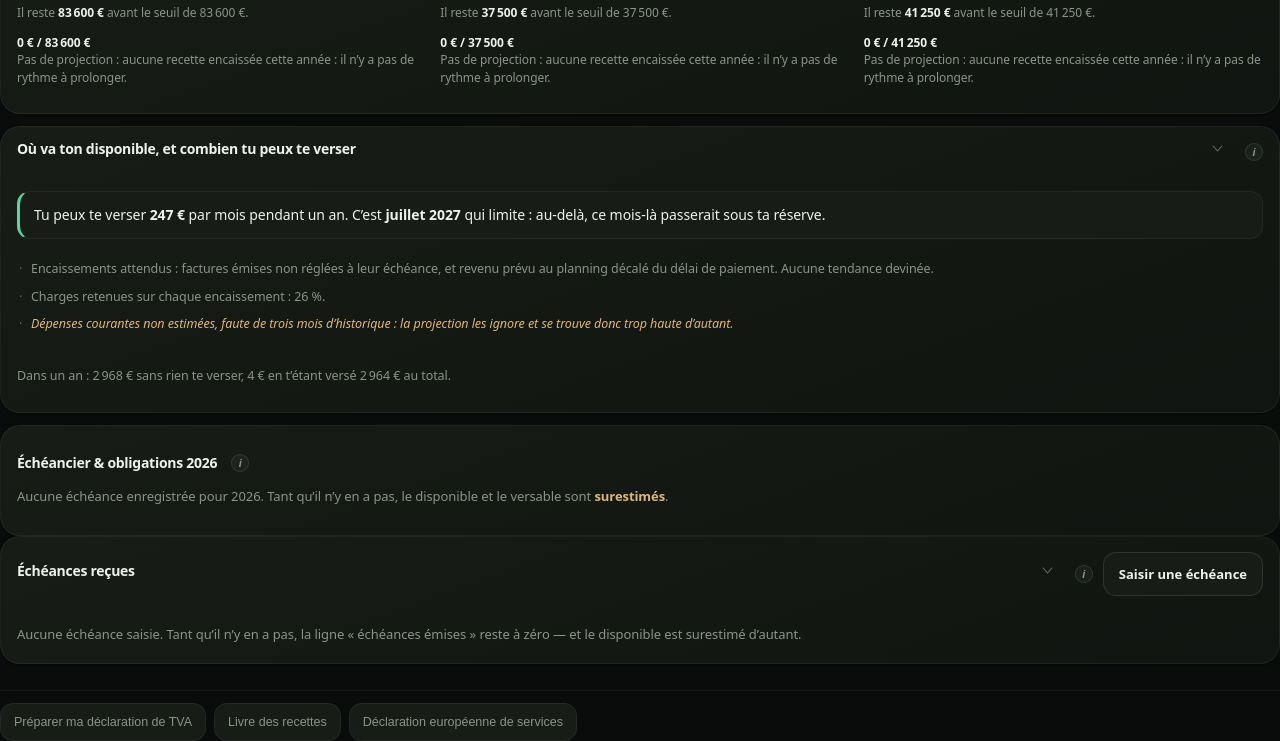
Test: prestations à déclarer › bloque une ligne dont le numéro de TVA manque, et dit pourquoi
(page scrolled)
Click the button "Déclaration européenne de services" at (463, 722), box [349, 703, 577, 740]
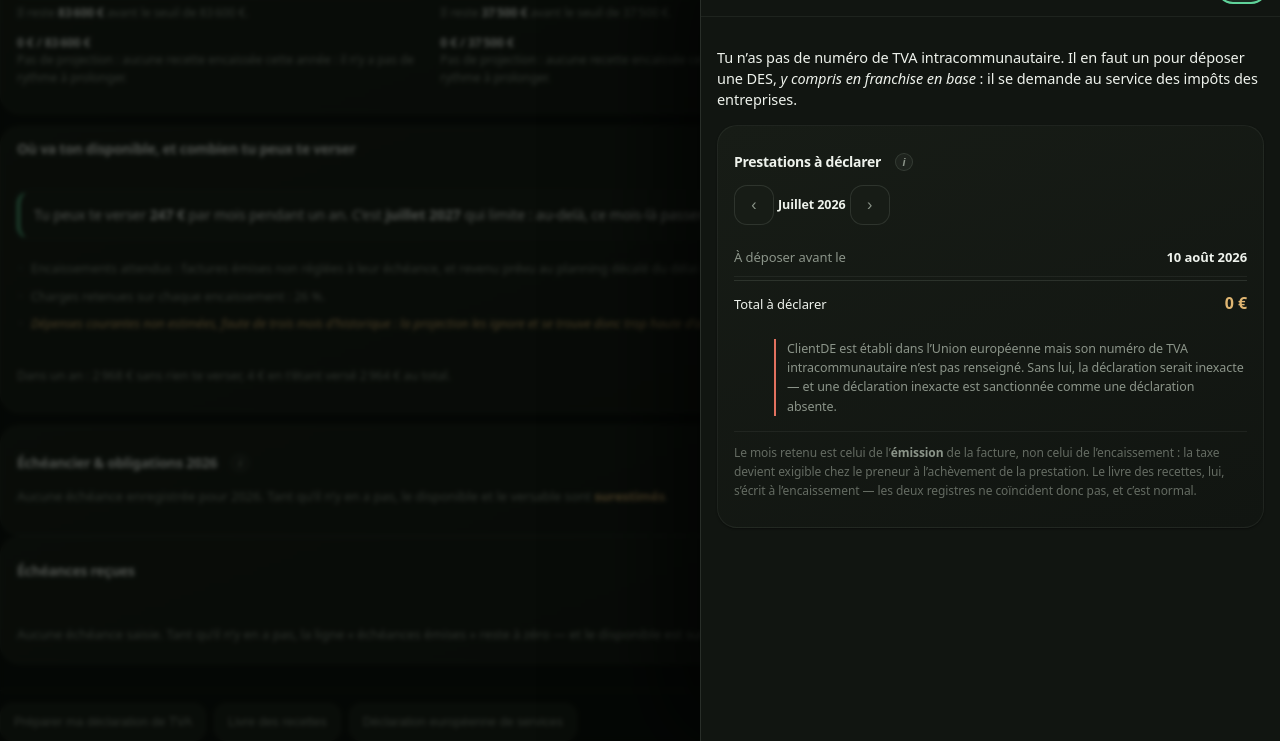
Expected: the heading "Prestations à déclarer" is shown, [734, 152, 881, 171]
Expected: the list item "numéro de TVA intracommunautaire n’est pas renseigné" is shown, [787, 340, 1244, 415]
